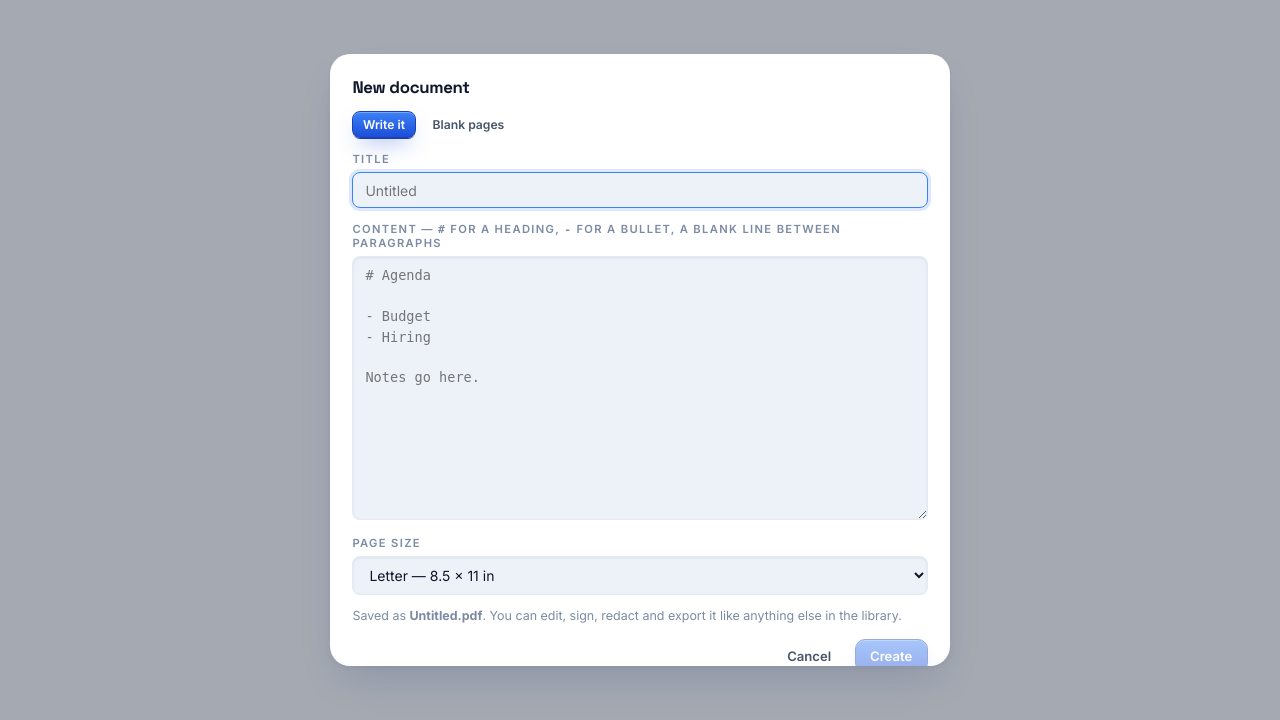
blank pages › is available with nothing typed at all
The width and height of the screenshot is (1280, 720).
Click the tab "Blank pages" at x=468, y=124, box [422, 111, 515, 138]
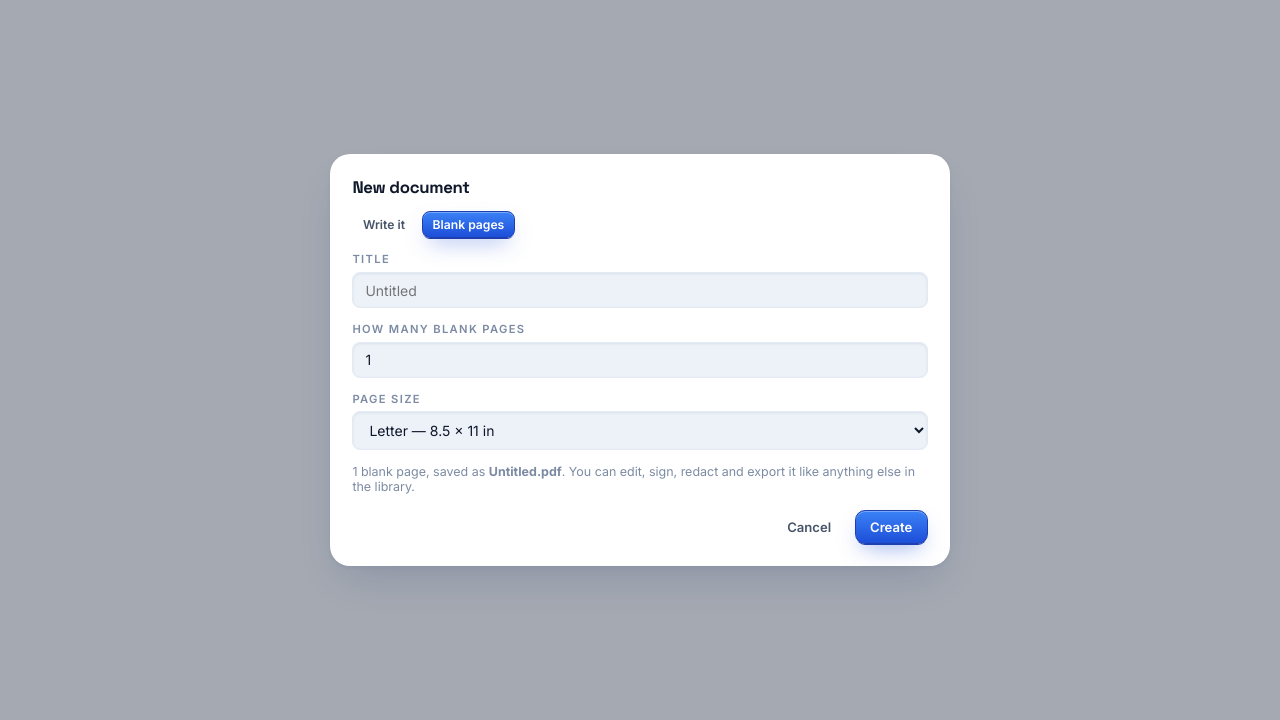
Expected: the button "Create" is enabled, [855, 510, 928, 544]
